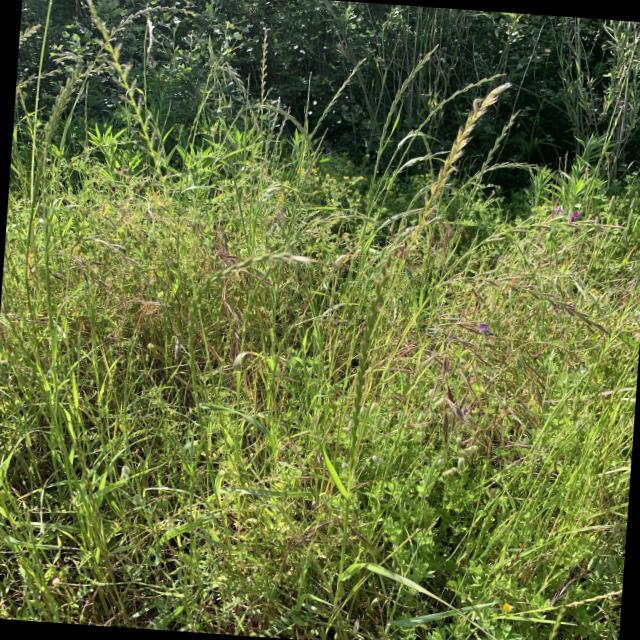Lolium: (0, 182, 640, 640), (412, 80, 504, 244), (185, 241, 307, 345), (87, 32, 169, 173), (432, 273, 612, 333), (350, 252, 402, 452), (380, 40, 441, 138), (598, 287, 636, 363), (318, 59, 362, 124)
